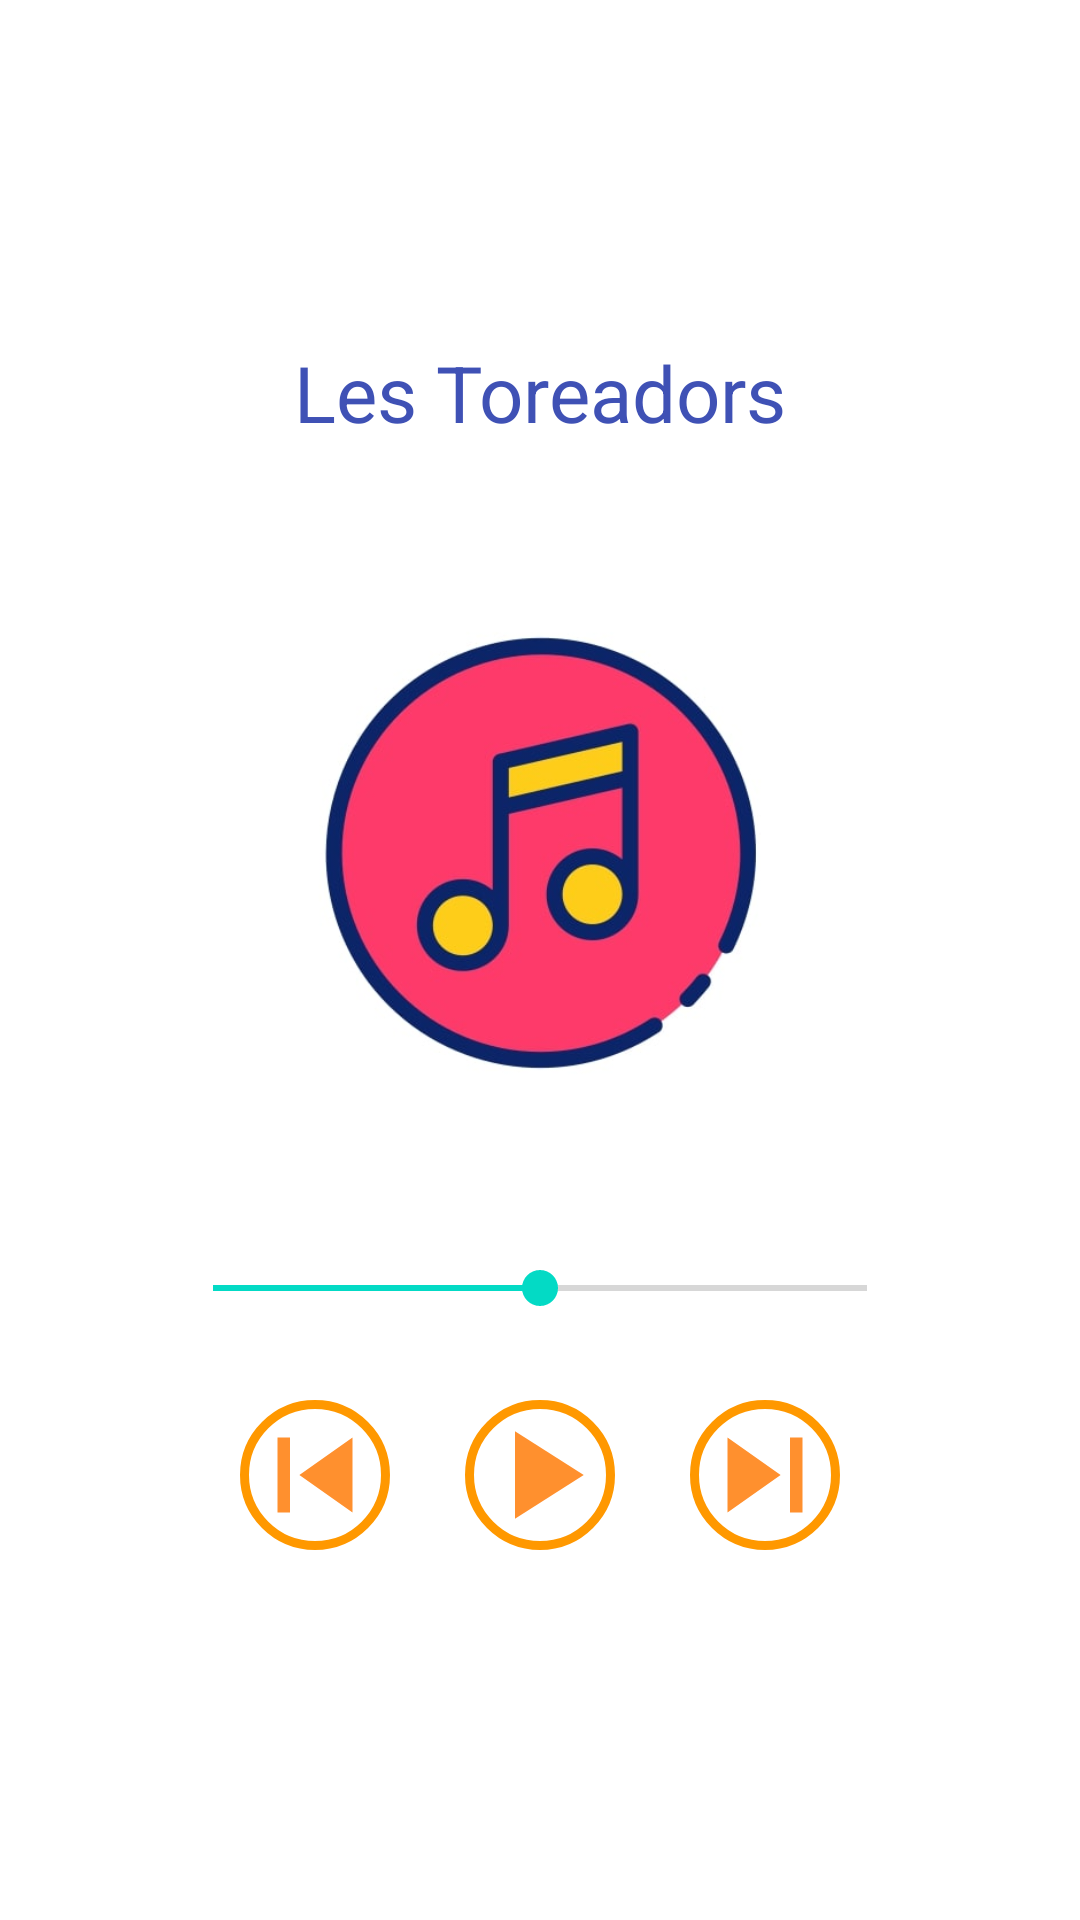

Screen size 1080*1920. Icon name, then its center in pixels as point (x, y):
play arrow: point (540, 1475)
skip next: point (765, 1475)
skip previous: point (315, 1475)
